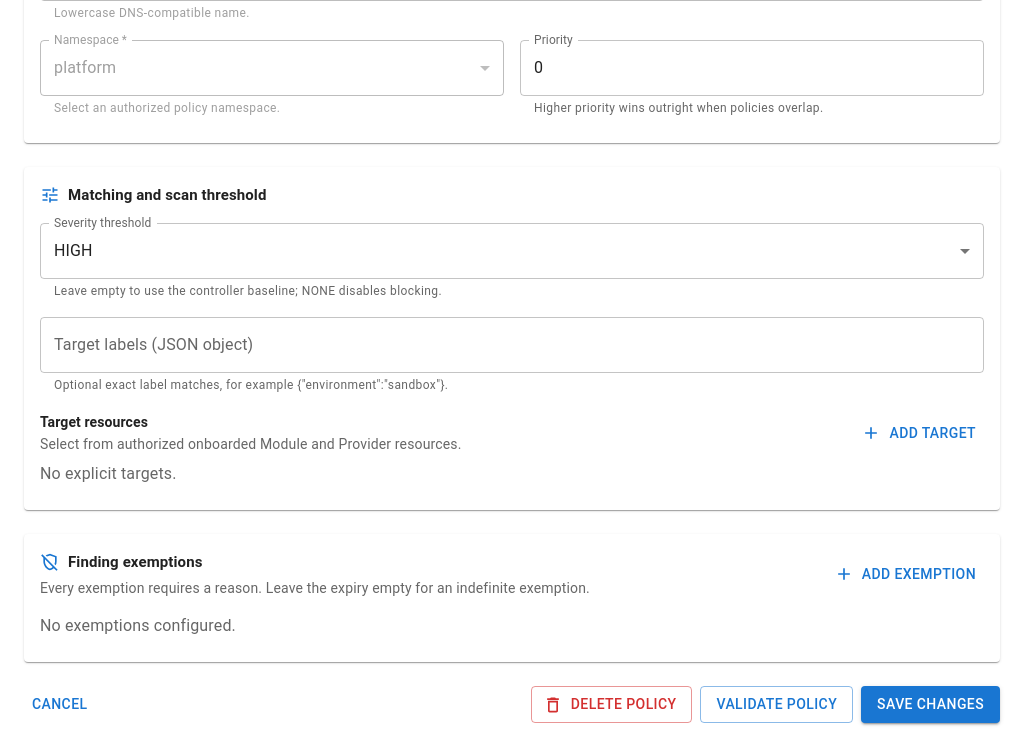
Test case: SecurityPoliciesSurface › preserves the edit draft and reports an optimistic-concurrency conflict
The image size is (1024, 741).
(page scrolled)
Click the button "Save changes".
click(931, 705)  # box x1=861 y1=686 x2=1000 y2=723
(page scrolled)
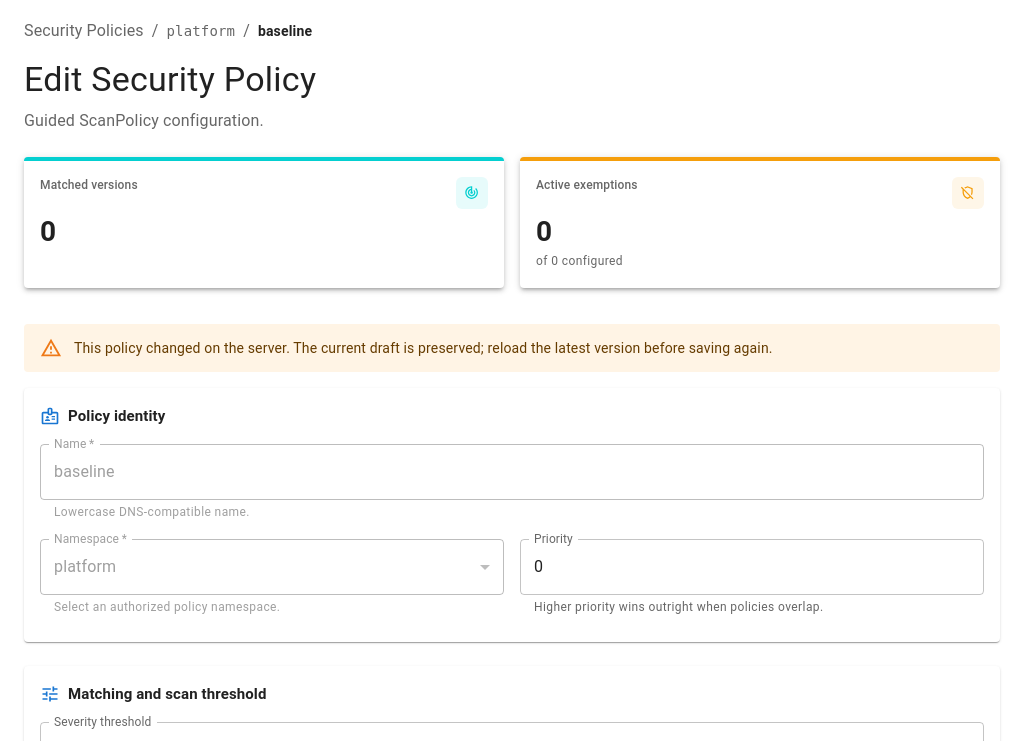
Expected: the text "changed on the server" is shown, x1=74 y1=340 x2=773 y2=356
